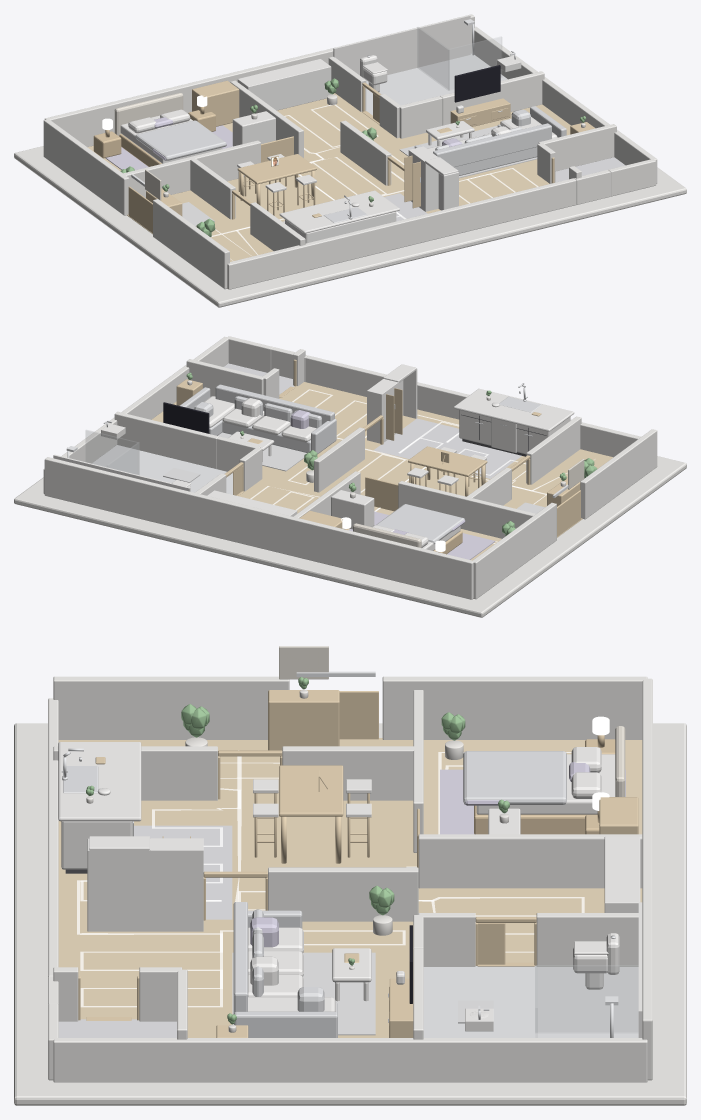
File: smart_home_apartment_furnished.glb
3 renders of one model, top to bottom at view 1: azimuth 30°, elevation 25°; view 2: azimuth 150°, elevation 25°; view 3: azimuth 270°, elevation 25°, orthographic. The views are drawn at different scales.
Visible parts, largest first — view 1: base_slab, wall_outer_front_A, floor_wood_main, bathroom_tile_details, wall_outer_back, wall_outer_left_B, living_room_sofa, wall_outer_right, floor_wood_hall, wall_outer_left_A, storage_alcove_cabinets, floor_bathroom_tile (+41 smaller); view 2: wall_outer_back, base_slab, floor_wood_main, wall_outer_front_A, wall_outer_left_B, wall_inner_bathroom_front, wall_inner_bedroom_front_A, wall_outer_left_A, wall_outer_right, living_room_sofa, floor_kitchen_tile_zone, floor_wood_front_right (+36 smaller); view 3: base_slab, wall_outer_right, floor_wood_main, wall_outer_left_B, floor_bathroom_tile, wall_outer_left_A, floor_wood_front_right, wall_inner_bedroom_side, wall_inner_kitchen_living, bathroom_glass_shower, floor_wood_hall, kitchen_refrigerator_wall_bay (+45 smaller).
Part boxes in pixels (x1=…): base_slab: x1=14, y1=146, x2=686, y2=307; wall_outer_front_A: x1=227, y1=178, x2=576, y2=289; floor_wood_main: x1=127, y1=152, x2=399, y2=288; bathroom_tile_details: x1=333, y1=15, x2=470, y2=75; wall_outer_back: x1=44, y1=14, x2=474, y2=146; wall_outer_left_B: x1=43, y1=119, x2=129, y2=215; living_room_sofa: x1=414, y1=106, x2=566, y2=175; wall_outer_right: x1=474, y1=26, x2=657, y2=183; floor_wood_hall: x1=277, y1=93, x2=396, y2=160; wall_outer_left_A: x1=153, y1=199, x2=229, y2=289; storage_alcove_cabinets: x1=237, y1=59, x2=331, y2=110; floor_bathroom_tile: x1=366, y1=53, x2=507, y2=115; wall_outer_back: x1=44, y1=457, x2=473, y2=599; base_slab: x1=14, y1=456, x2=686, y2=617; floor_wood_main: x1=319, y1=411, x2=612, y2=537; wall_outer_front_A: x1=305, y1=355, x2=641, y2=457; wall_outer_left_B: x1=473, y1=502, x2=556, y2=599; wall_inner_bathroom_front: x1=114, y1=411, x2=219, y2=468; wall_inner_bedroom_front_A: x1=398, y1=481, x2=535, y2=538; wall_outer_left_A: x1=580, y1=429, x2=657, y2=519; wall_outer_right: x1=43, y1=336, x2=228, y2=493; living_room_sofa: x1=179, y1=384, x2=336, y2=454; floor_kitchen_tile_zone: x1=373, y1=418, x2=521, y2=478; floor_wood_front_right: x1=176, y1=382, x2=425, y2=450; base_slab: x1=14, y1=723, x2=686, y2=1105; wall_outer_right: x1=53, y1=1038, x2=647, y2=1082; floor_wood_main: x1=58, y1=738, x2=416, y2=919; wall_outer_left_B: x1=382, y1=676, x2=647, y2=739; floor_bathroom_tile: x1=423, y1=966, x2=638, y2=1037; wall_outer_left_A: x1=53, y1=676, x2=289, y2=739; floor_wood_front_right: x1=58, y1=919, x2=232, y2=1037; wall_inner_bedroom_side: x1=418, y1=834, x2=642, y2=888; wall_inner_kitchen_living: x1=268, y1=867, x2=418, y2=921; bathroom_glass_shower: x1=535, y1=965, x2=638, y2=1037; floor_wood_hall: x1=418, y1=888, x2=642, y2=962; kitchen_refrigerator_wall_bay: x1=87, y1=836, x2=150, y2=931.
Bounding box in the file's own units: 18.6 × 2.39 × 14.1.
26 materials, 1 textured.
